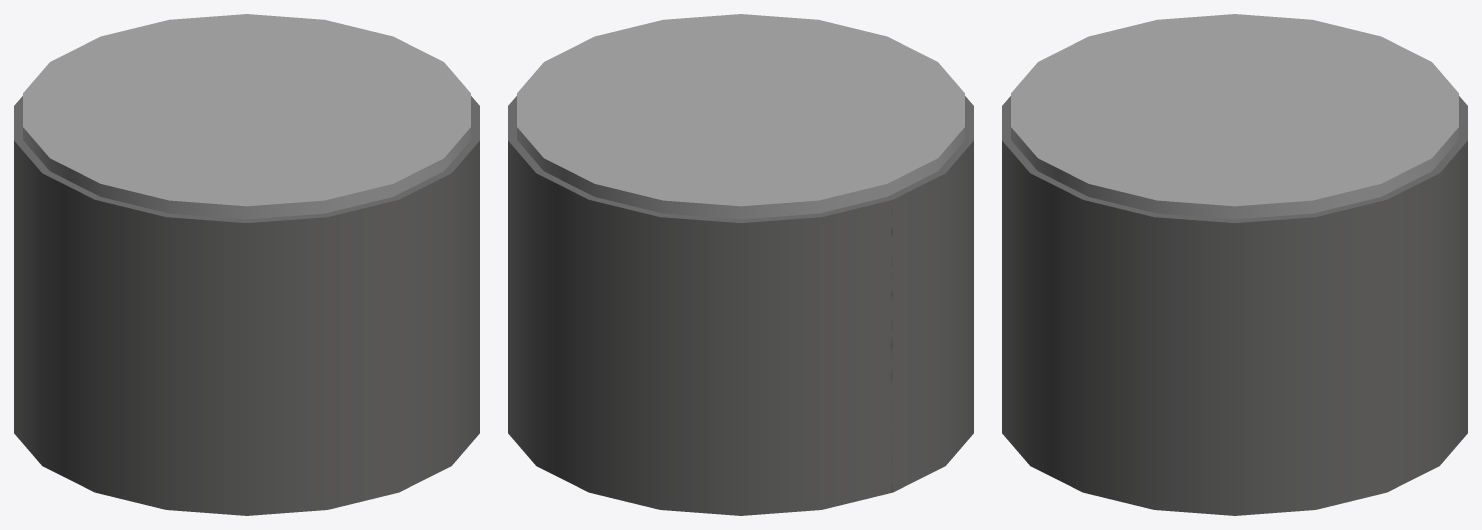
File: ANNiu3.fbx
3 renders of one model, left to right at view 1: azimuth 30°, elevation 25°; view 2: azimuth 150°, elevation 25°; view 3: azimuth 270°, elevation 25°, orthographic.
Parts seen in each view (by area): view 1: Cylinder093; view 2: Cylinder093; view 3: Cylinder093.
Boxes of the visible parts, x1,y1,x2,y2 form: Cylinder093: (14,14,479,515); Cylinder093: (508,14,973,515); Cylinder093: (1002,14,1467,515).
Size of the model in its own units: 7.88 by 5.62 by 7.76.
2 materials, 1 textured.
